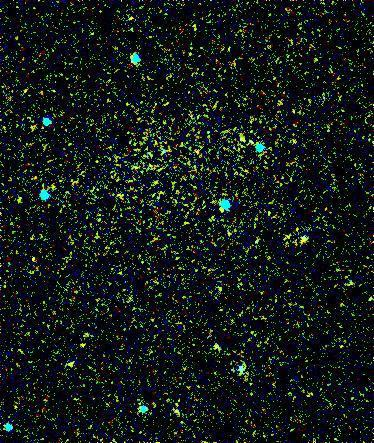star: (227, 122, 257, 152)
